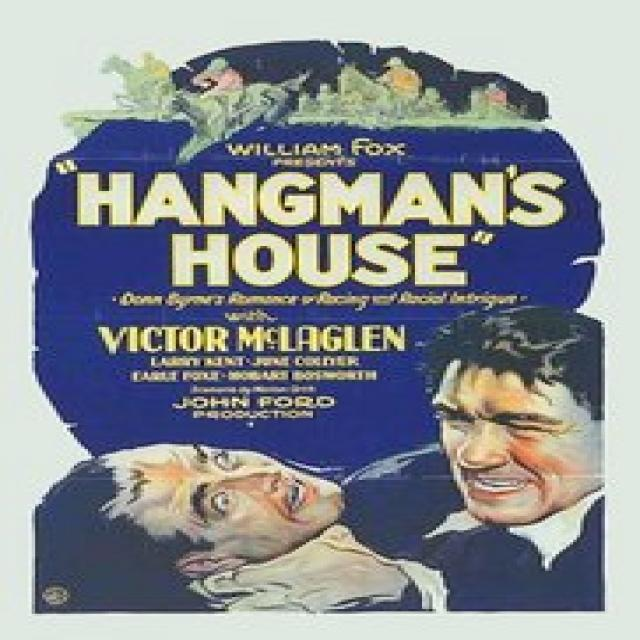movie-judul: (27, 146, 596, 298)
picture: (16, 307, 617, 616)
